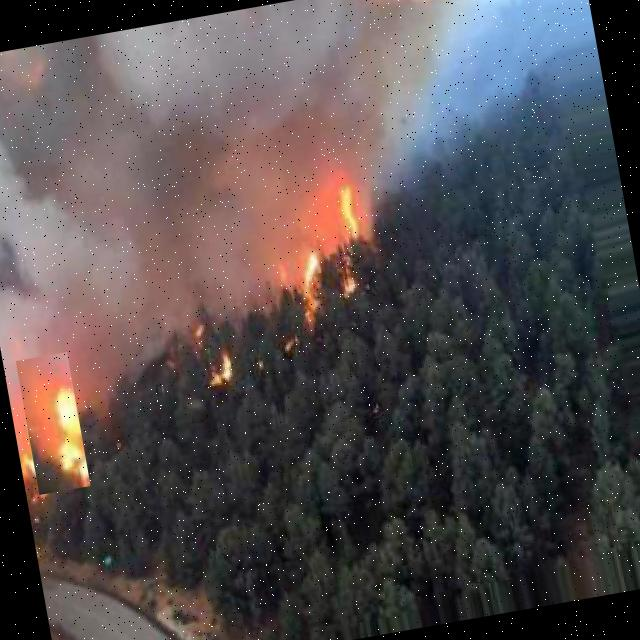fire: (15, 352, 90, 494), (276, 229, 343, 316), (334, 166, 386, 267)
